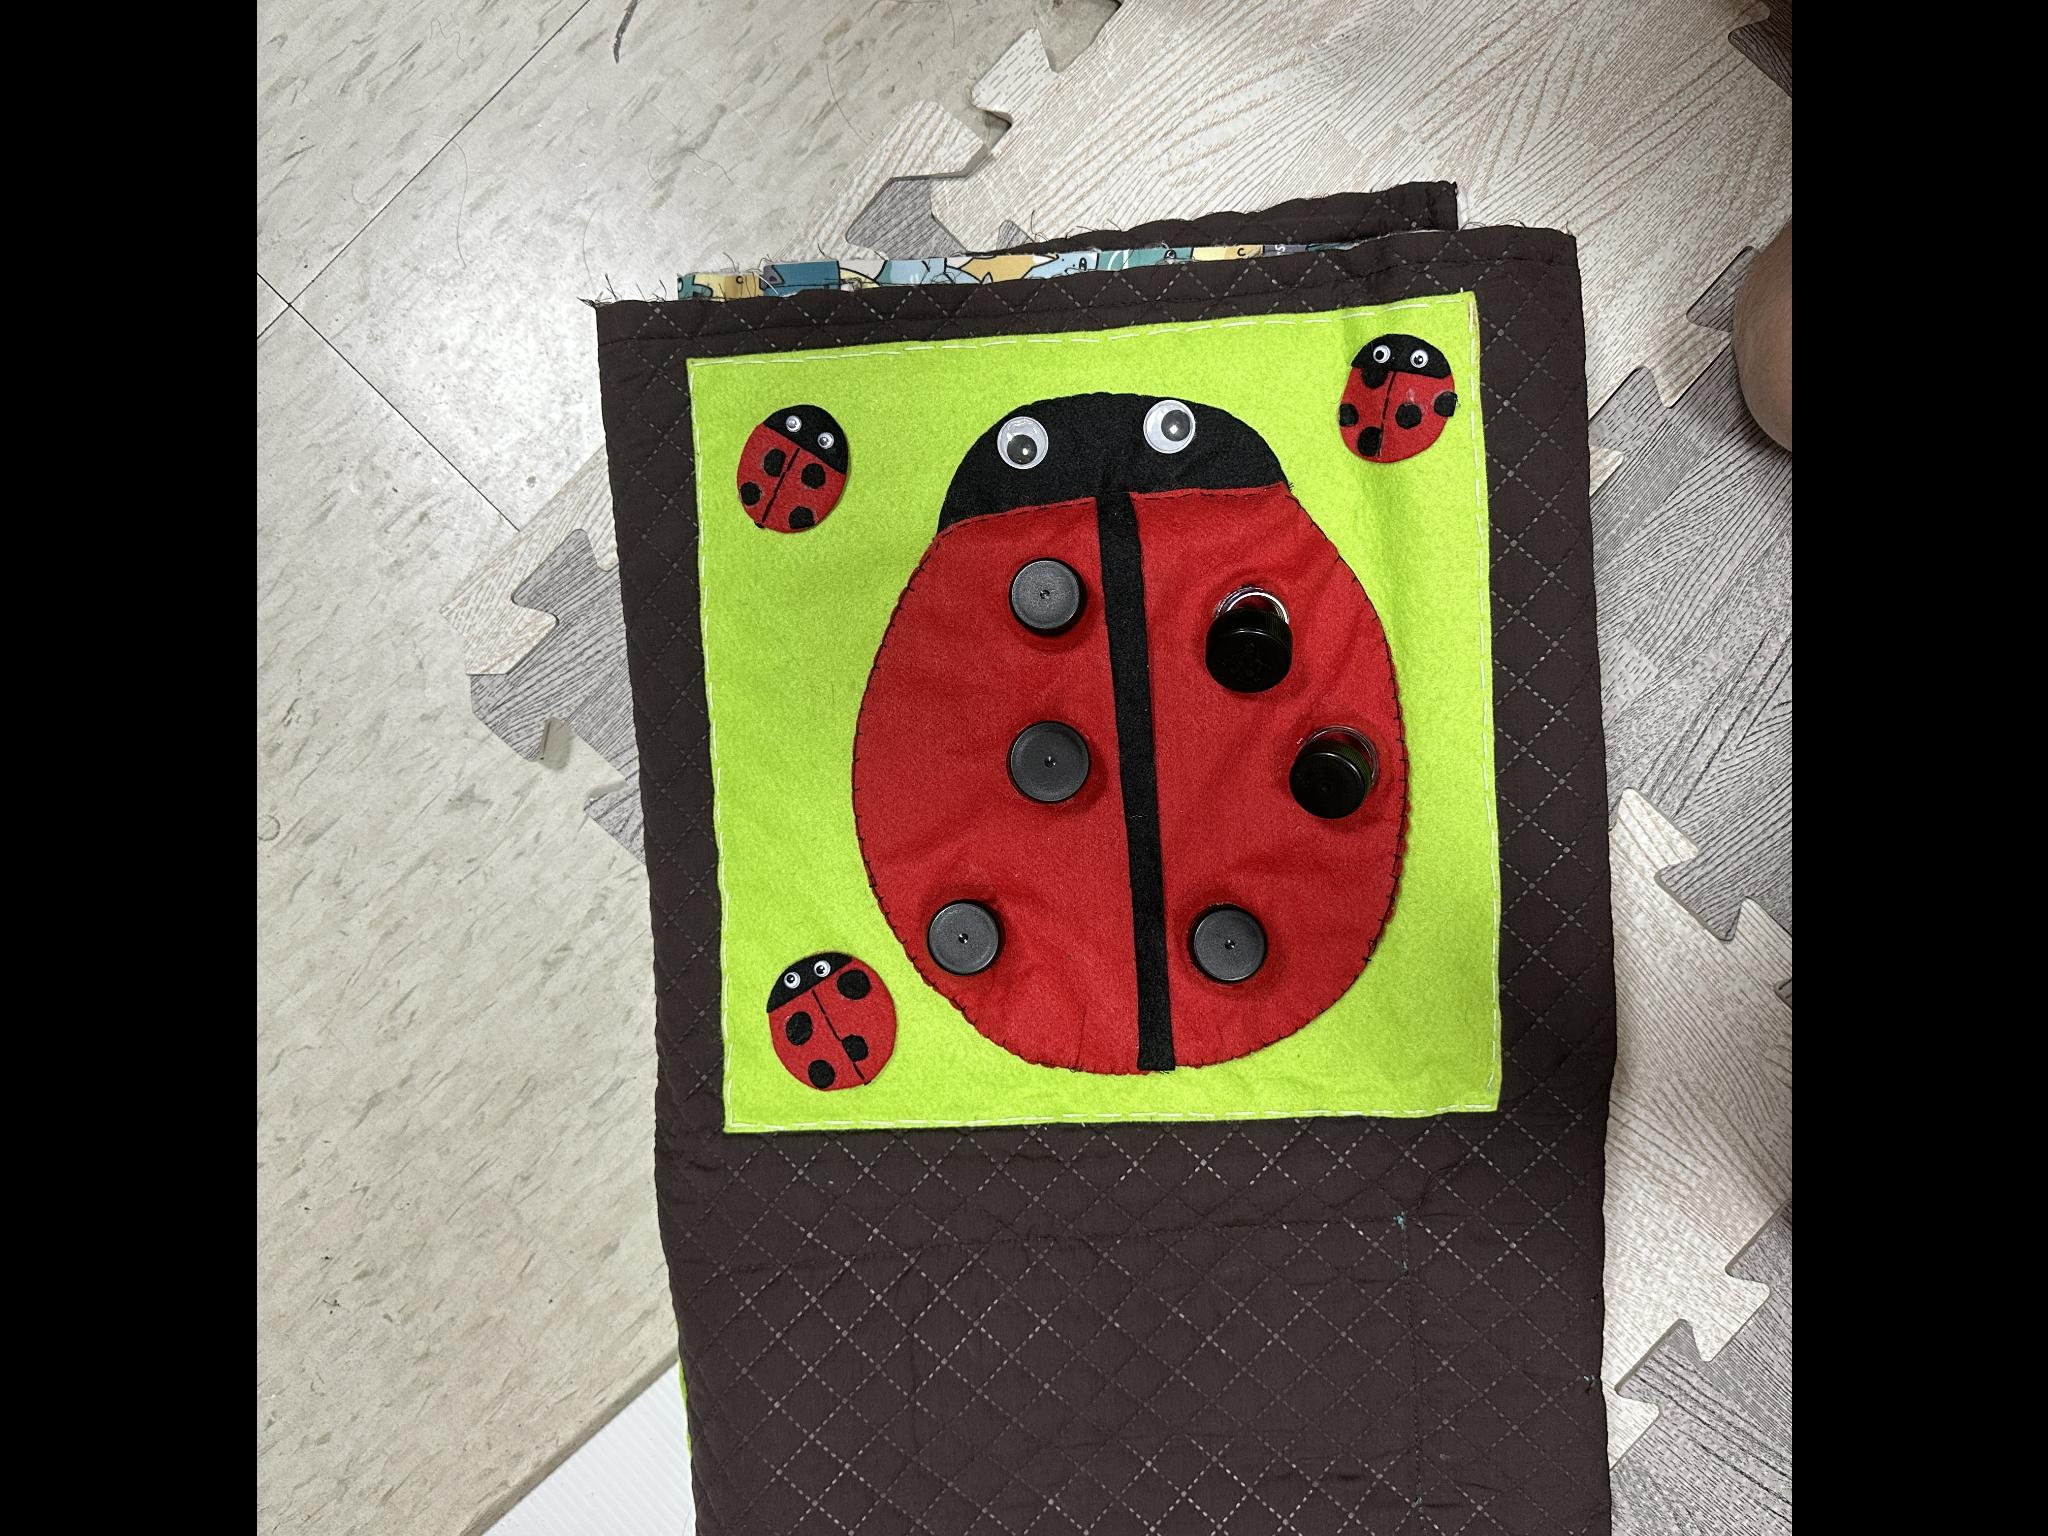cap_ng: (1187, 565, 1306, 715), (1279, 708, 1405, 847)
cap_ok: (895, 862, 1027, 1004), (990, 692, 1116, 821), (1169, 889, 1287, 1008), (992, 532, 1101, 657)
